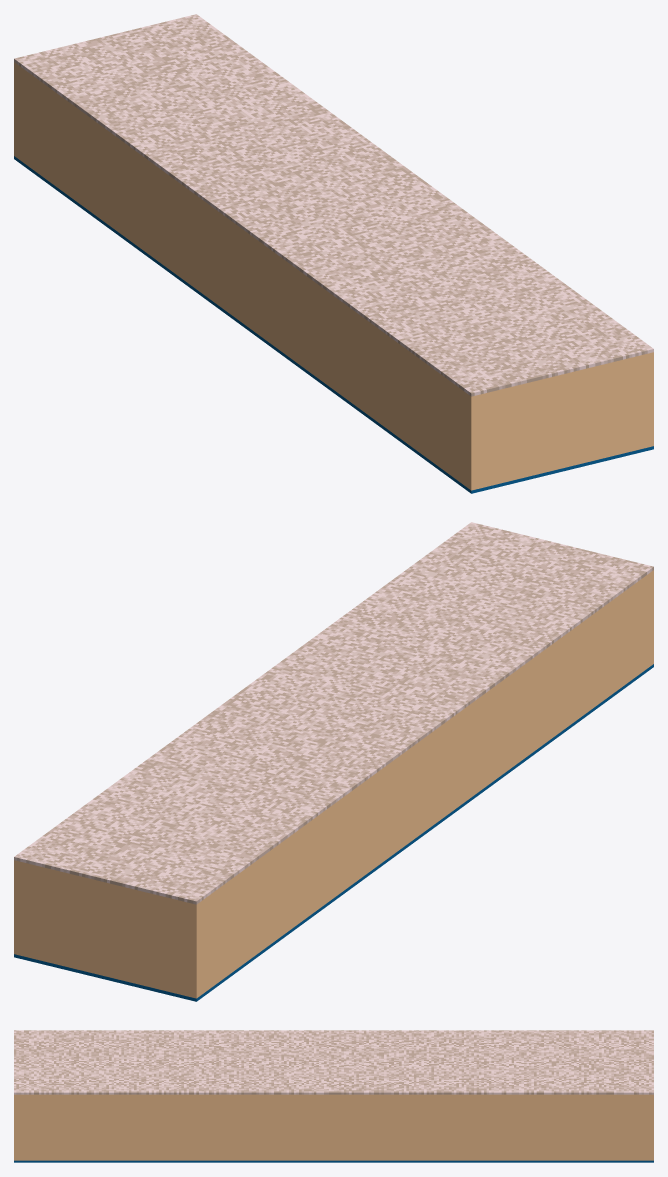
The model's file is castelloVillafranca-1.obj.
3 renders of one model, top to bottom at view 1: azimuth 30°, elevation 25°; view 2: azimuth 150°, elevation 25°; view 3: azimuth 270°, elevation 25°, orthographic. The views are drawn at different scales.
Bounding box in the file's own units: 5.9 × 3.1 × 25.6.
1 material, 1 textured.
